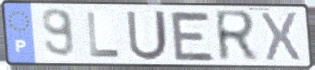9: (41, 7, 78, 62)
E: (168, 9, 217, 63)
L: (85, 10, 123, 59)
R: (212, 8, 260, 65)
U: (124, 9, 170, 62)
X: (259, 10, 302, 64)
